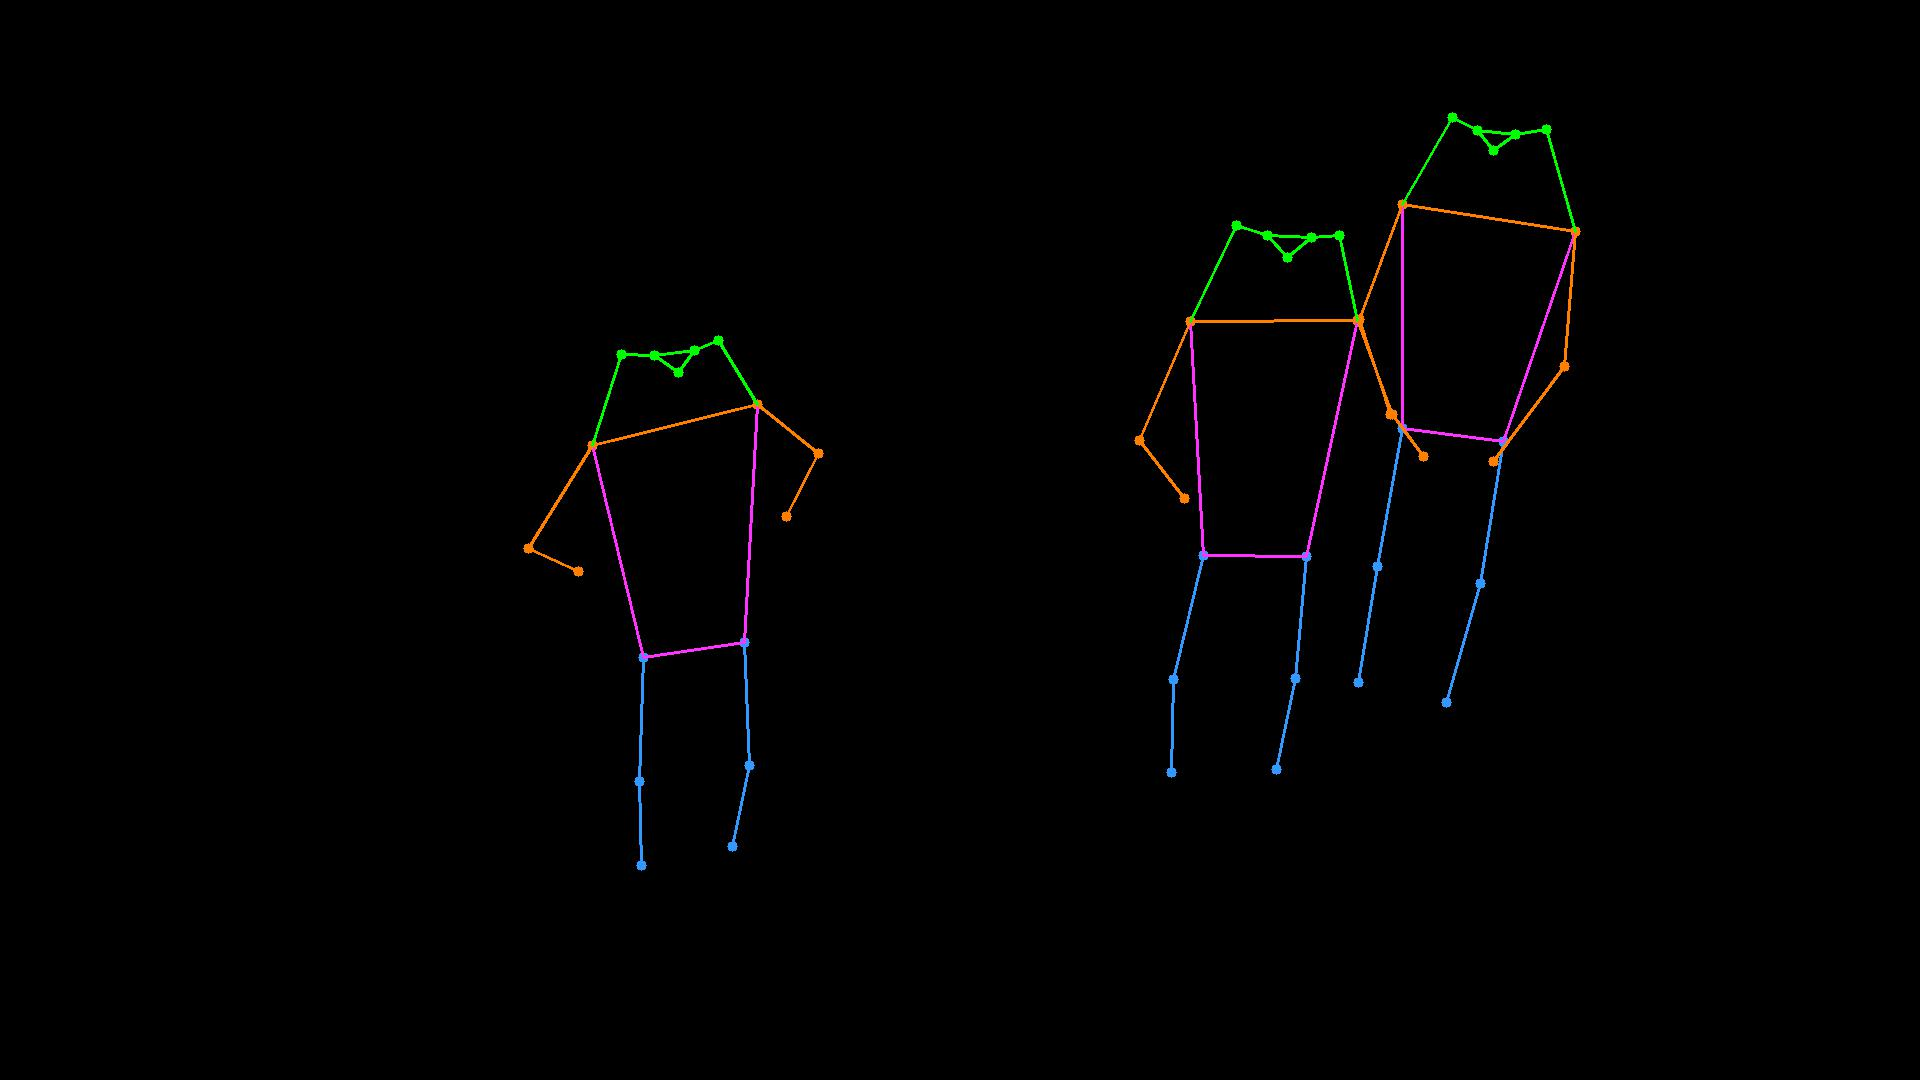normal: (1083, 90, 1638, 818), (495, 306, 862, 906)
